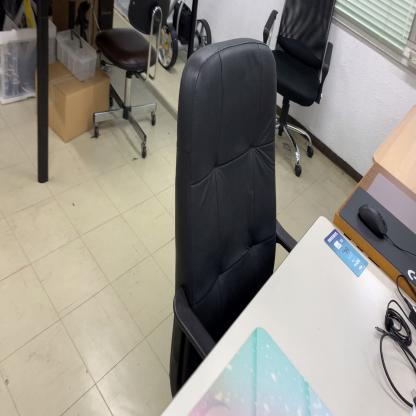chair: (168, 36, 300, 396), (260, 0, 338, 181), (90, 0, 163, 163)
